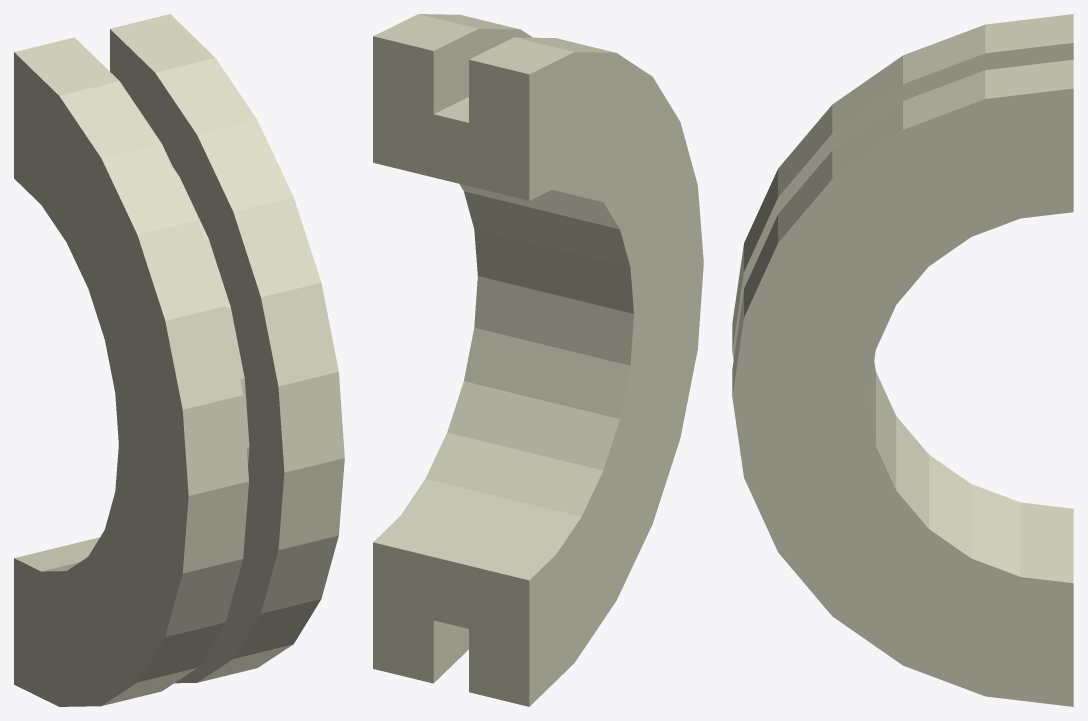
The model's file is section_112.obj.
The picture shows the model from 3 angles, left to right: view 1: azimuth 30°, elevation 25°; view 2: azimuth 150°, elevation 25°; view 3: azimuth 270°, elevation 25°; orthographic projection. The views are drawn at different scales.
Bounding box in the file's own units: 2.58 × 10 × 5.
